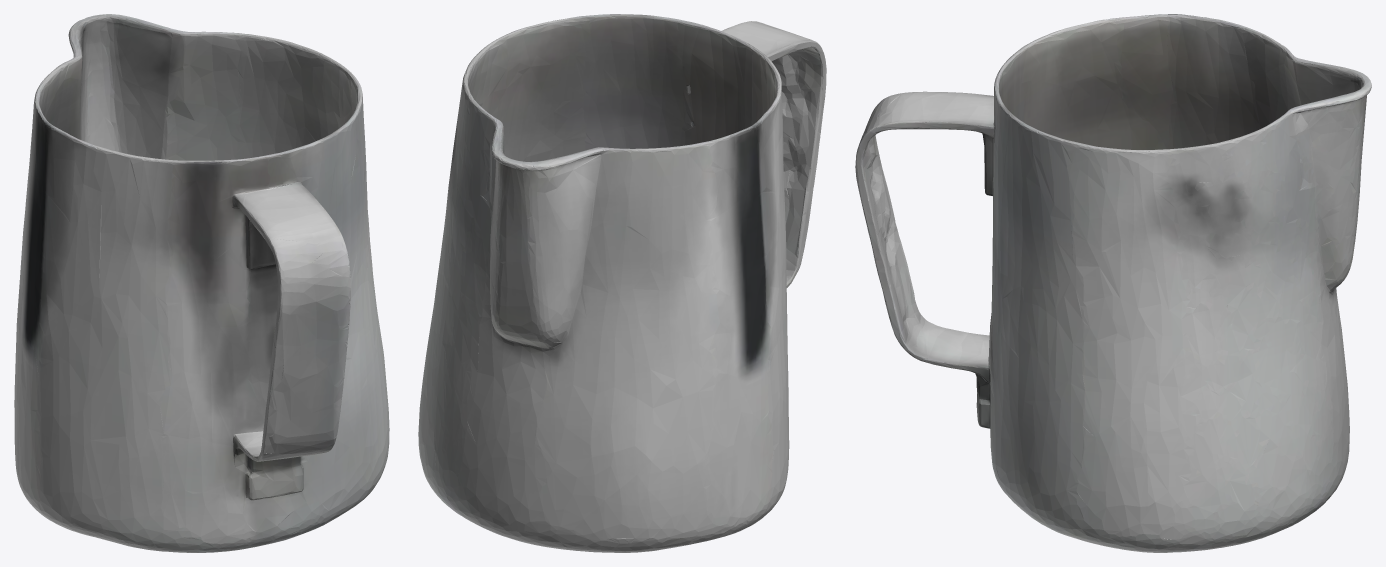
3 renders of one model, left to right at view 1: azimuth 30°, elevation 25°; view 2: azimuth 150°, elevation 25°; view 3: azimuth 270°, elevation 25°, orthographic.
Visible parts, largest first — view 1: world; view 2: world; view 3: world.
Boxes of the visible parts, x1=… form: world: x1=14, y1=14, x2=389, y2=552; world: x1=418, y1=14, x2=826, y2=552; world: x1=855, y1=14, x2=1371, y2=552.
Size of the model in its own units: 0.7368 by 0.8525 by 1.
Materials: 1 (1 with a texture image).
